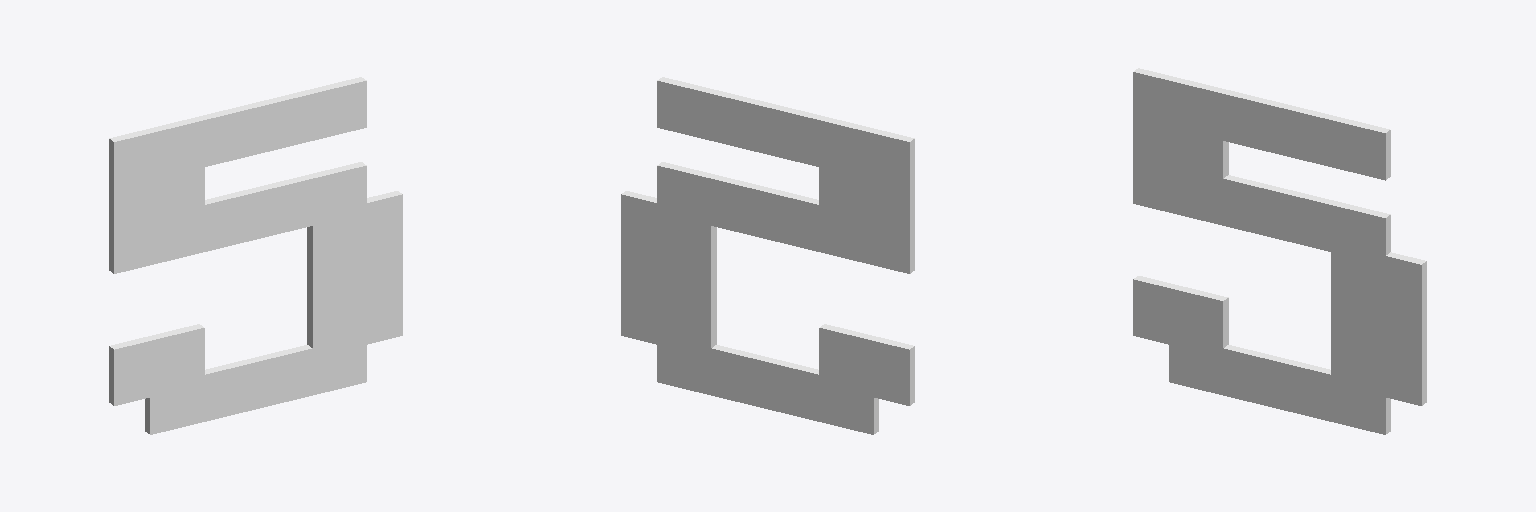
The picture shows the model from 3 angles: view 1: azimuth 30°, elevation 25°; view 2: azimuth 150°, elevation 25°; view 3: azimuth 330°, elevation 25°; orthographic projection.
Visible parts, largest first — view 1: ch_5_32; view 2: ch_5_32; view 3: ch_5_32.
Part boxes in pixels (x1,y1,x2,y2): ch_5_32: (109, 77, 402, 434); ch_5_32: (621, 77, 914, 434); ch_5_32: (1133, 68, 1426, 434).
Bounding box in the file's own units: 32 × 32 × 1.